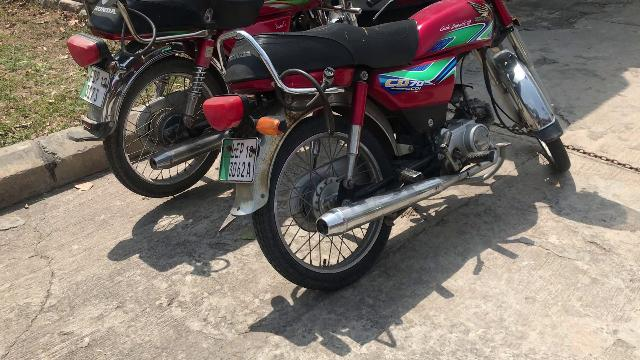plate: (217, 138, 260, 186)
